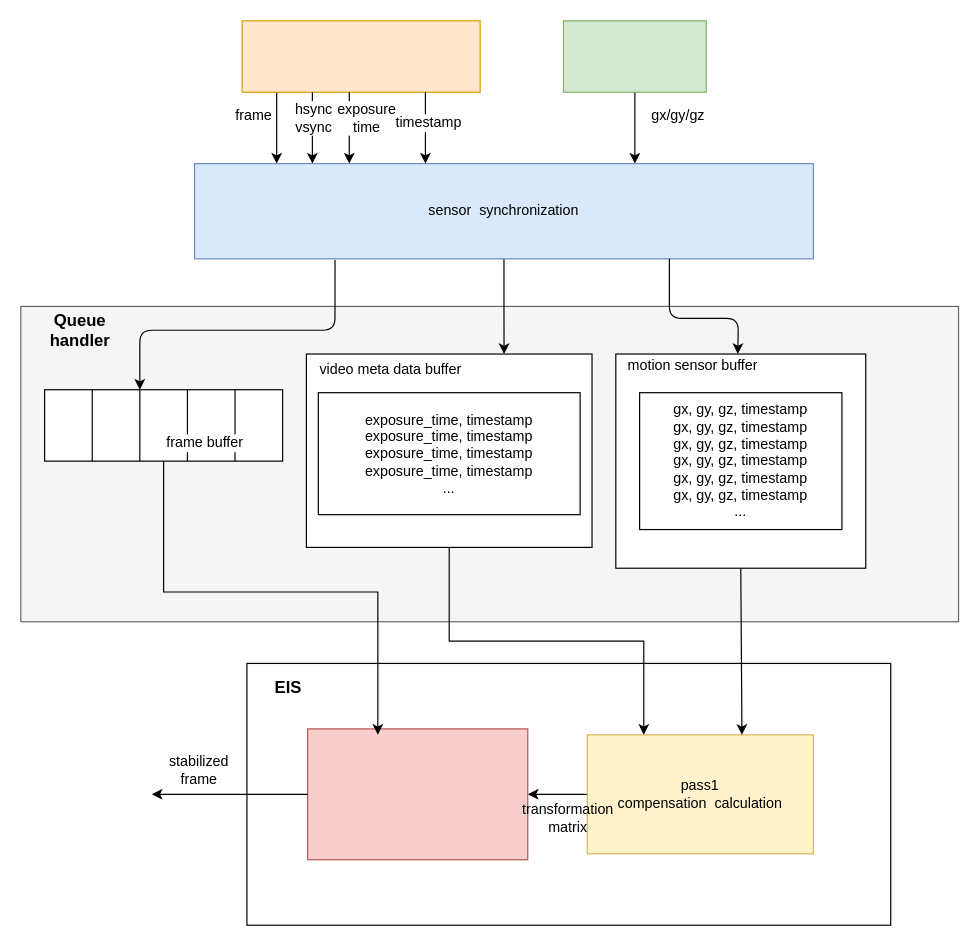
Image size: 979x946. Some labels were removed from this diagram. The centre of each missing label's shape, as x and y in pixels:
"CMOS sensor" goes at [360,56].
"motion sensor" goes at [634,56].
"pass2 image warp" goes at [417,794].
